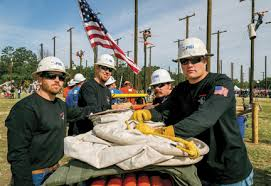epi: (167, 35, 250, 186), (7, 53, 67, 186), (140, 66, 182, 125), (84, 53, 122, 118), (103, 74, 126, 106), (69, 71, 89, 106), (121, 77, 138, 102)
